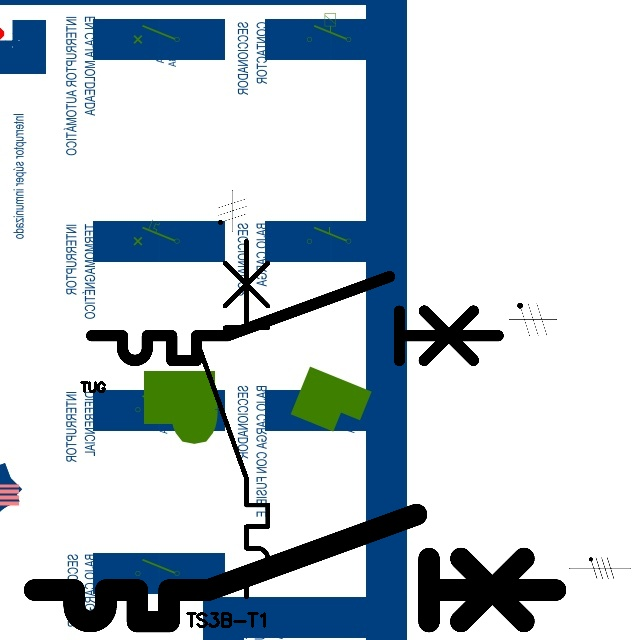interruptor_termomagnetico: (21, 501, 569, 635), (81, 266, 509, 371), (186, 232, 277, 605)
